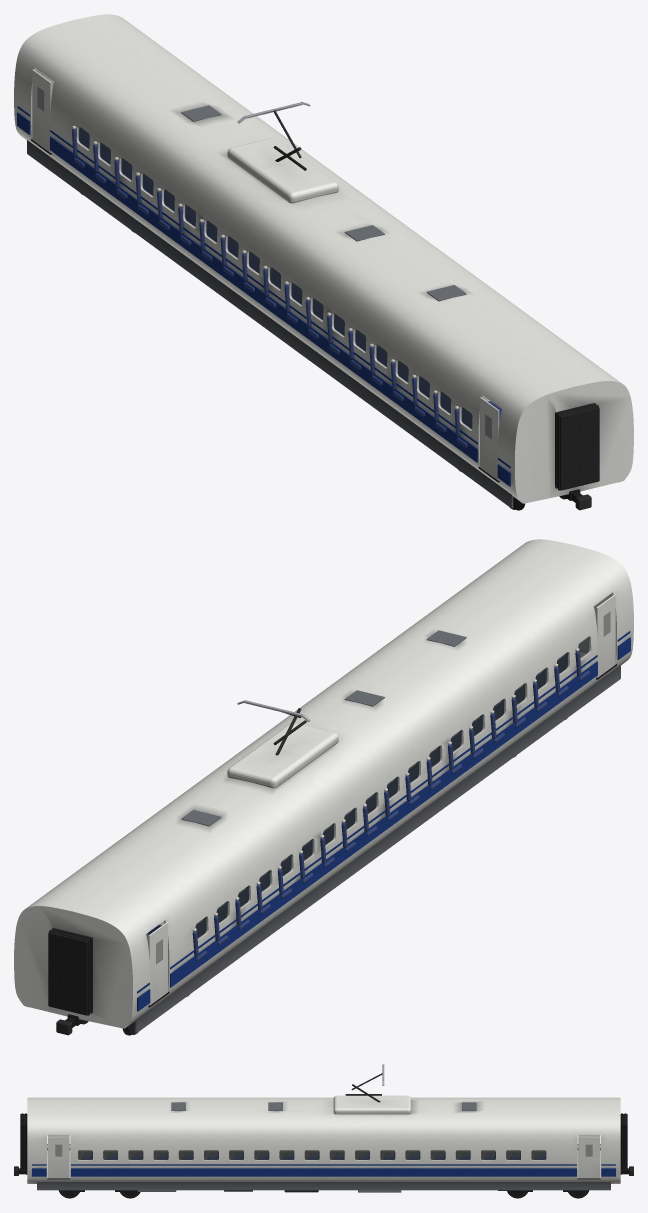
File: shinkansen_mid.glb
The picture shows the model from 3 angles, top to bottom: view 1: azimuth 30°, elevation 25°; view 2: azimuth 150°, elevation 25°; view 3: azimuth 270°, elevation 25°; orthographic projection. The views are drawn at different scales.
Parts seen in each view (by area): view 1: shinkansen_mid_paint_white, shinkansen_mid_paint_grey, shinkansen_mid_paint_blue, shinkansen_mid_seat_moquette, shinkansen_mid_glass, shinkansen_mid_gangway; view 2: shinkansen_mid_paint_white, shinkansen_mid_paint_grey, shinkansen_mid_paint_blue, shinkansen_mid_seat_moquette, shinkansen_mid_gangway, shinkansen_mid_glass, shinkansen_mid_plastic_white; view 3: shinkansen_mid_paint_white, shinkansen_mid_paint_blue, shinkansen_mid_paint_grey, shinkansen_mid_glass, shinkansen_mid_seat_moquette, shinkansen_mid_gangway, floor, shinkansen_mid_steel_dark, shinkansen_mid_plastic_grey, shinkansen_mid_plastic_white, shinkansen_mid_bogie, shinkansen_mid_cast_iron (+1 smaller).
Part boxes in pixels (x1=…): shinkansen_mid_paint_white: x1=14, y1=14, x2=633, y2=503; shinkansen_mid_paint_grey: x1=27, y1=105, x2=620, y2=508; shinkansen_mid_paint_blue: x1=17, y1=106, x2=510, y2=486; shinkansen_mid_seat_moquette: x1=72, y1=128, x2=501, y2=447; shinkansen_mid_glass: x1=37, y1=87, x2=491, y2=438; shinkansen_mid_gangway: x1=555, y1=403, x2=599, y2=490; shinkansen_mid_paint_white: x1=14, y1=539, x2=633, y2=1028; shinkansen_mid_paint_grey: x1=27, y1=630, x2=620, y2=1033; shinkansen_mid_paint_blue: x1=137, y1=631, x2=630, y2=1011; shinkansen_mid_seat_moquette: x1=148, y1=651, x2=589, y2=961; shinkansen_mid_gangway: x1=48, y1=928, x2=92, y2=1015; shinkansen_mid_glass: x1=156, y1=612, x2=610, y2=963; shinkansen_mid_plastic_white: x1=192, y1=594, x2=611, y2=931; shinkansen_mid_paint_white: x1=27, y1=1095, x2=620, y2=1183; shinkansen_mid_paint_blue: x1=32, y1=1164, x2=615, y2=1176; shinkansen_mid_paint_grey: x1=37, y1=1102, x2=610, y2=1190; shinkansen_mid_glass: x1=55, y1=1145, x2=592, y2=1159; shinkansen_mid_seat_moquette: x1=82, y1=1151, x2=546, y2=1159; shinkansen_mid_gangway: x1=20, y1=1113, x2=627, y2=1169; floor: x1=78, y1=1151, x2=537, y2=1159; shinkansen_mid_steel_dark: x1=14, y1=1073, x2=633, y2=1192; shinkansen_mid_plastic_grey: x1=84, y1=1152, x2=544, y2=1155; shinkansen_mid_plastic_white: x1=79, y1=1150, x2=545, y2=1151; shinkansen_mid_bogie: x1=58, y1=1190, x2=589, y2=1198; shinkansen_mid_cast_iron: x1=26, y1=1169, x2=621, y2=1194.
Size of what is drawn, in the model's own units: 3.47 by 5.41 by 25.6.
18 materials, 16 textured.
